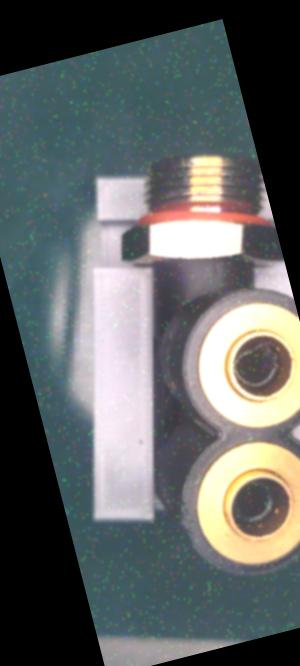off-centered: (221, 333, 292, 398)
white mark: (197, 251, 226, 284)
